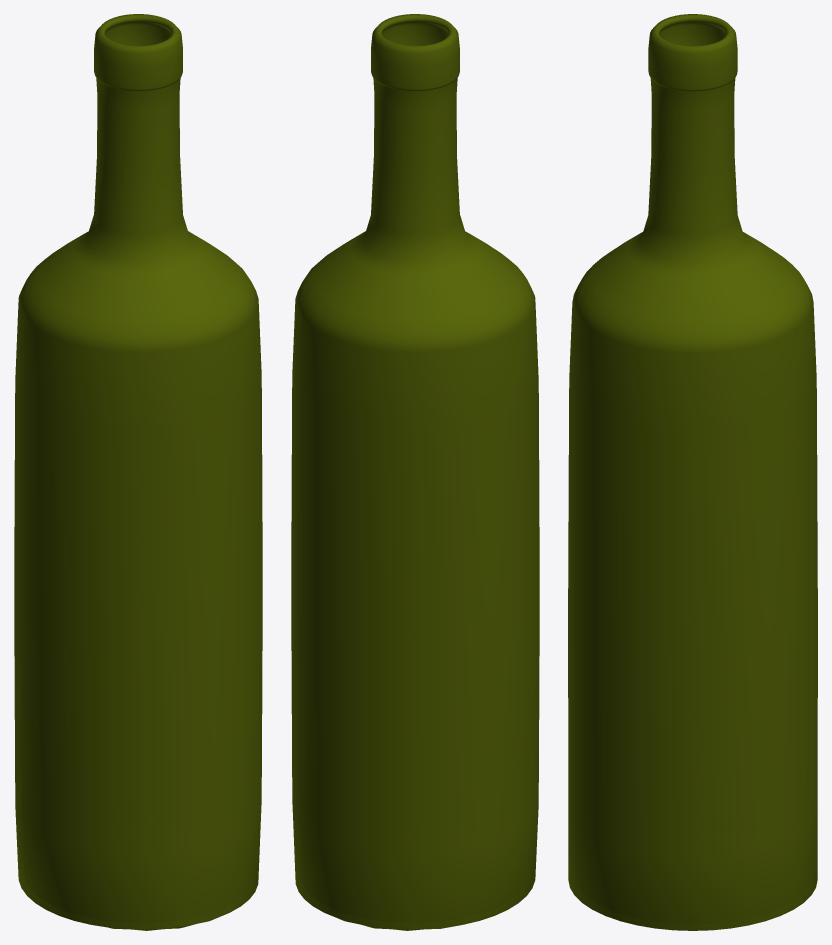
The model's file is bottle.fbx.
3 views of the same model, side by side, from view 1: azimuth 30°, elevation 25°; view 2: azimuth 150°, elevation 25°; view 3: azimuth 270°, elevation 25° (orthographic).
Parts seen in each view (by area): view 1: wine_bottle; view 2: wine_bottle; view 3: wine_bottle.
Boxes of the visible parts, x1,y1,x2,y2 form: wine_bottle: (14, 14, 262, 930); wine_bottle: (291, 14, 539, 930); wine_bottle: (568, 14, 817, 930).
Size of the model in its own units: 1.78 by 6.74 by 1.78.
